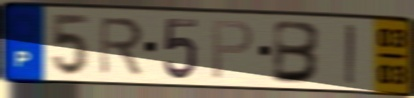5: (48, 12, 94, 78), (161, 16, 201, 81)
B: (270, 18, 325, 85)
I: (343, 22, 359, 87)
P: (210, 18, 256, 82)
R: (97, 15, 146, 77)
